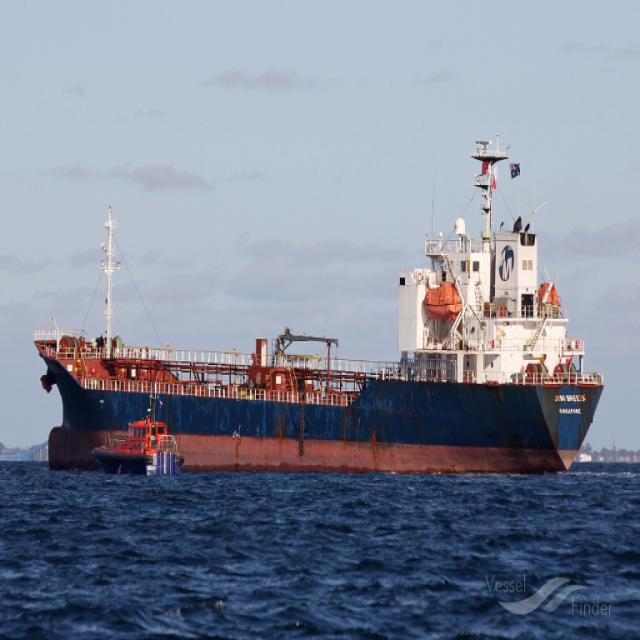OCR: (549, 390, 593, 424)
